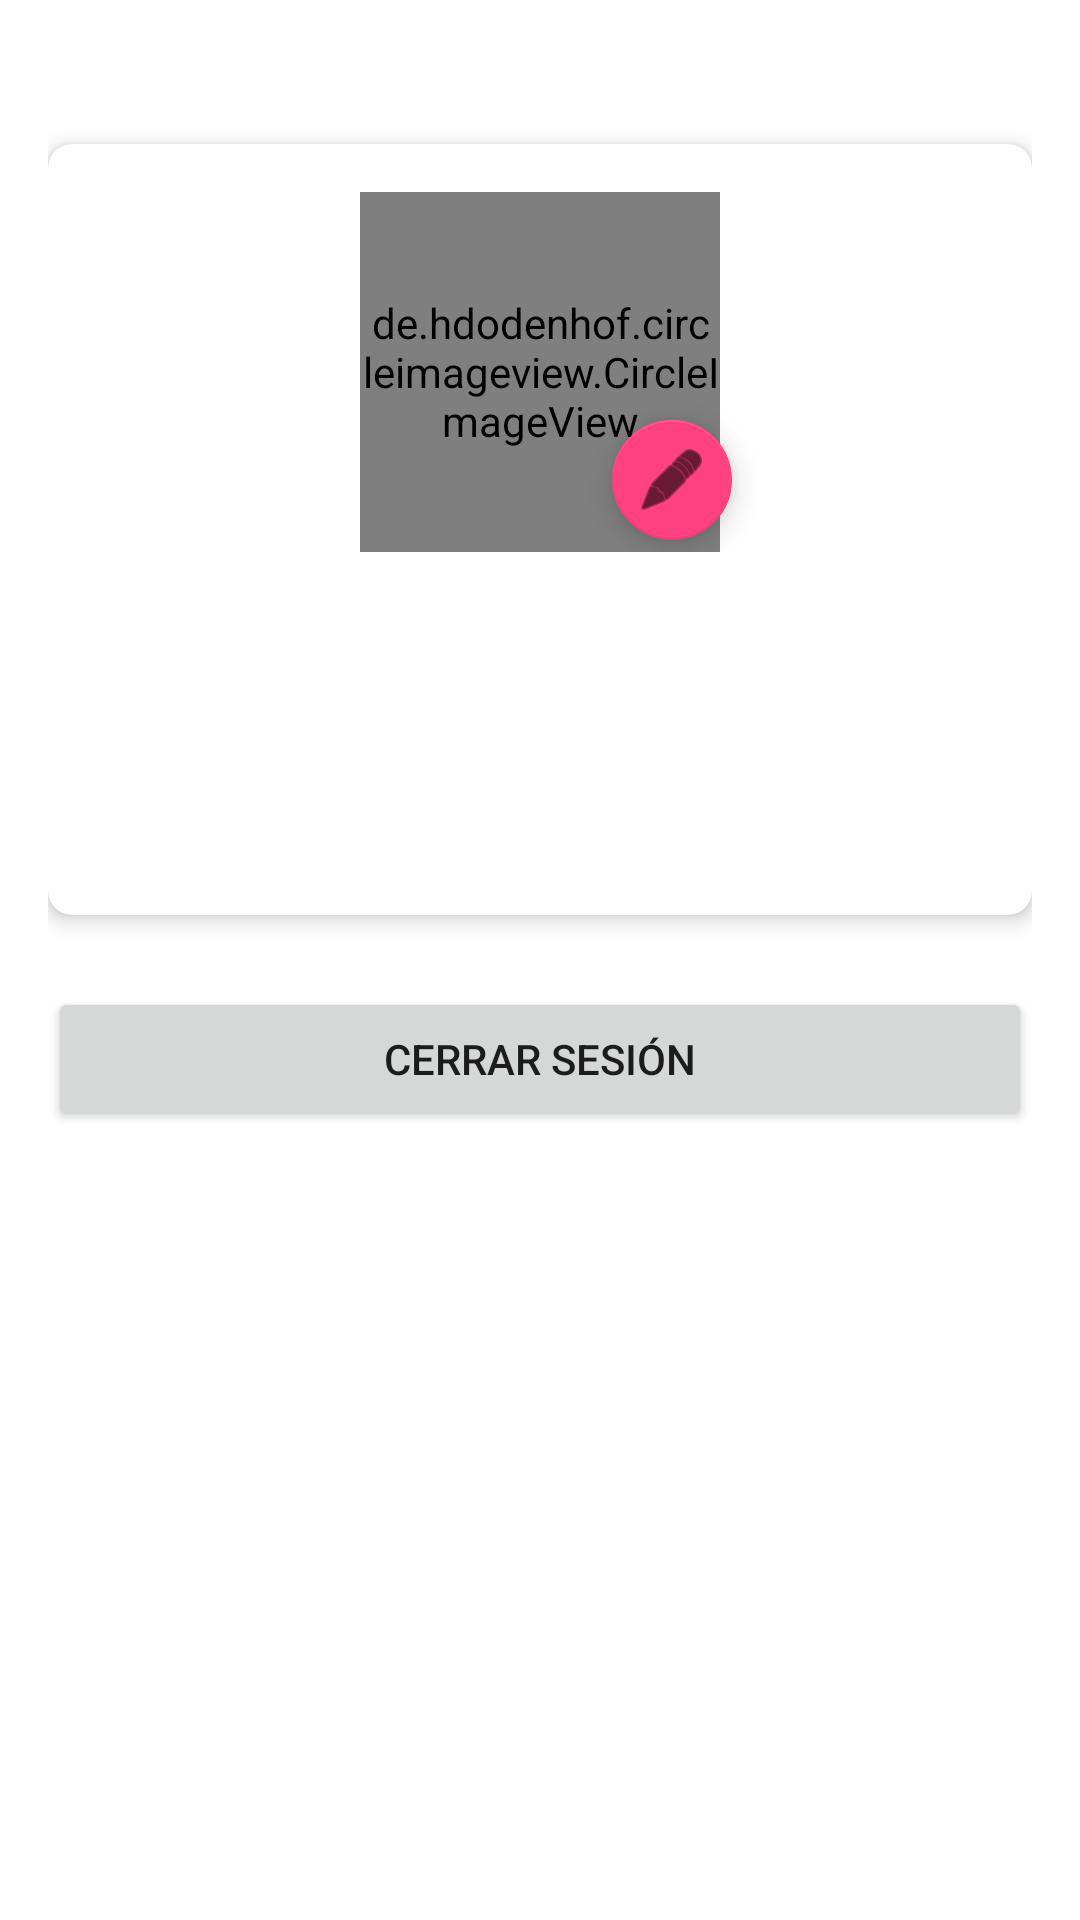

Where to tap for icons on this 1080px×1920px app screen, as [x,y]:
Editar perfil: [672,480]
